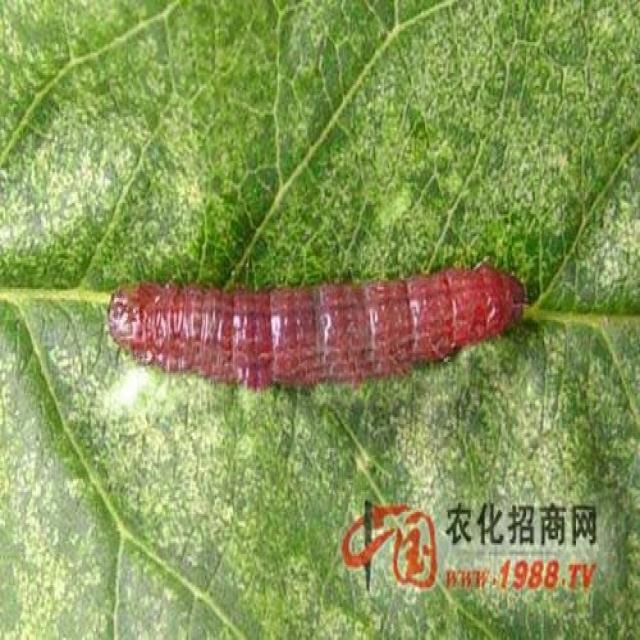peach borer: (108, 257, 534, 389)
